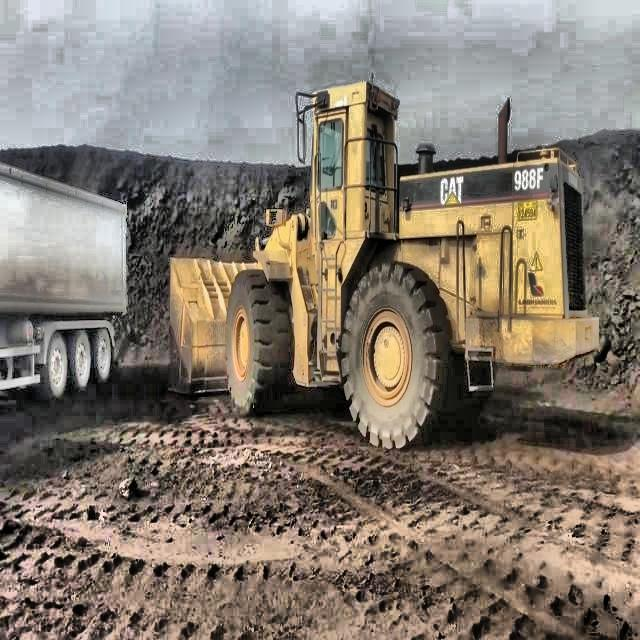bull_dozer/loader/grader: (165, 80, 600, 453)
dump_truck: (0, 165, 132, 391)
